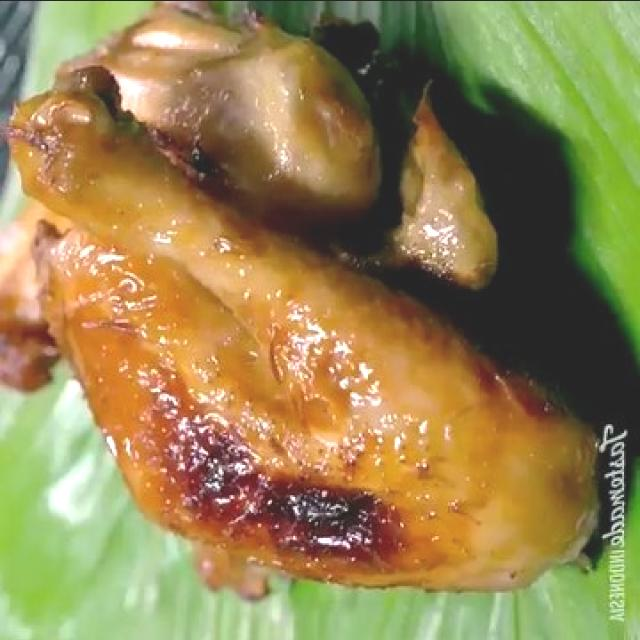ayam goreng: (9, 16, 615, 599)
